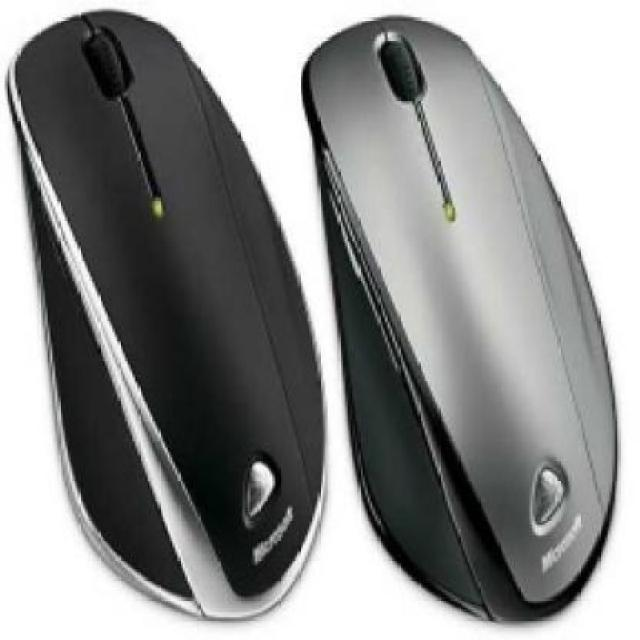mause: (294, 1, 638, 638), (2, 22, 330, 638)
